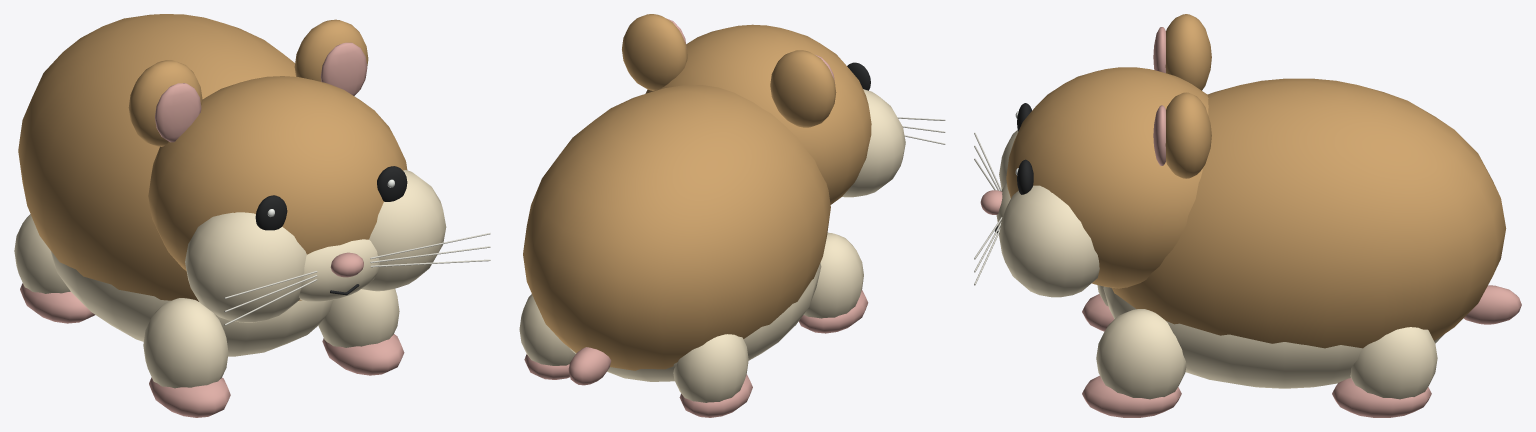
Rendered from animal_hamster_golden.glb.
The picture shows the model from 3 angles, left to right: view 1: azimuth 30°, elevation 25°; view 2: azimuth 150°, elevation 25°; view 3: azimuth 270°, elevation 25°; orthographic projection. The views are drawn at different scales.
Visible parts, largest first — view 1: Hamster_Rounded_Body, Hamster_Head, Hamster_Cream_Cheek, Hamster_Cream_Underside, Hamster_Short_Leg, Hamster_Cream_Cheek.001, Hamster_Short_Leg.002, Hamster_Cream_Muzzle, Hamster_Round_Ear, Hamster_Short_Leg.001, Hamster_Round_Ear.001, Hamster_Grounded_Paw (+7 smaller); view 2: Hamster_Rounded_Body, Hamster_Head, Hamster_Round_Ear, Hamster_Short_Leg.001, Hamster_Round_Ear.001, Hamster_Short_Leg, Hamster_Cream_Cheek, Hamster_Cream_Underside, Hamster_Short_Leg.003, Hamster_Tiny_Attached_Tail, Hamster_Grounded_Paw.001, Hamster_Grounded_Paw (+1 smaller); view 3: Hamster_Rounded_Body, Hamster_Head, Hamster_Cream_Underside, Hamster_Cream_Cheek.001, Hamster_Short_Leg.002, Hamster_Short_Leg.003, Hamster_Round_Ear.001, Hamster_Round_Ear, Hamster_Grounded_Paw.002, Hamster_Grounded_Paw.003, Hamster_Tiny_Attached_Tail, Hamster_Grounded_Paw (+2 smaller).
Part boxes in pixels (<box>): Hamster_Rounded_Body: <box>18,14,295,301</box>; Hamster_Head: <box>148,76,407,300</box>; Hamster_Cream_Cheek: <box>185,212,306,322</box>; Hamster_Cream_Underside: <box>51,251,333,356</box>; Hamster_Short_Leg: <box>143,298,228,388</box>; Hamster_Cream_Cheek.001: <box>361,170,446,291</box>; Hamster_Short_Leg.002: <box>318,288,399,347</box>; Hamster_Cream_Muzzle: <box>299,239,379,301</box>; Hamster_Round_Ear: <box>128,60,202,146</box>; Hamster_Short_Leg.001: <box>14,214,70,293</box>; Hamster_Round_Ear.001: <box>294,19,368,81</box>; Hamster_Grounded_Paw: <box>149,377,230,417</box>; Hamster_Rounded_Body: <box>523,85,830,370</box>; Hamster_Head: <box>645,24,871,204</box>; Hamster_Round_Ear: <box>770,50,836,127</box>; Hamster_Short_Leg.001: <box>673,334,748,402</box>; Hamster_Round_Ear.001: <box>622,14,687,90</box>; Hamster_Short_Leg: <box>803,232,863,318</box>; Hamster_Cream_Cheek: <box>842,89,905,197</box>; Hamster_Cream_Underside: <box>570,263,821,381</box>; Hamster_Short_Leg.003: <box>519,294,575,365</box>; Hamster_Tiny_Attached_Tail: <box>568,347,611,385</box>; Hamster_Grounded_Paw.001: <box>679,374,752,417</box>; Hamster_Grounded_Paw: <box>799,290,868,333</box>; Hamster_Rounded_Body: <box>1111,78,1506,348</box>; Hamster_Head: <box>1006,67,1208,288</box>; Hamster_Cream_Underside: <box>1103,286,1444,388</box>; Hamster_Cream_Cheek.001: <box>999,185,1099,297</box>; Hamster_Short_Leg.002: <box>1096,309,1186,399</box>; Hamster_Short_Leg.003: <box>1350,327,1437,399</box>; Hamster_Round_Ear.001: <box>1165,92,1211,178</box>; Hamster_Round_Ear: <box>1165,14,1211,90</box>; Hamster_Grounded_Paw.002: <box>1082,375,1181,417</box>; Hamster_Grounded_Paw.003: <box>1332,378,1431,417</box>; Hamster_Tiny_Attached_Tail: <box>1463,285,1521,324</box>; Hamster_Grounded_Paw: <box>1082,294,1114,331</box>.
Bounding box in the file's own units: 0.2098 × 0.244 × 0.3835.
